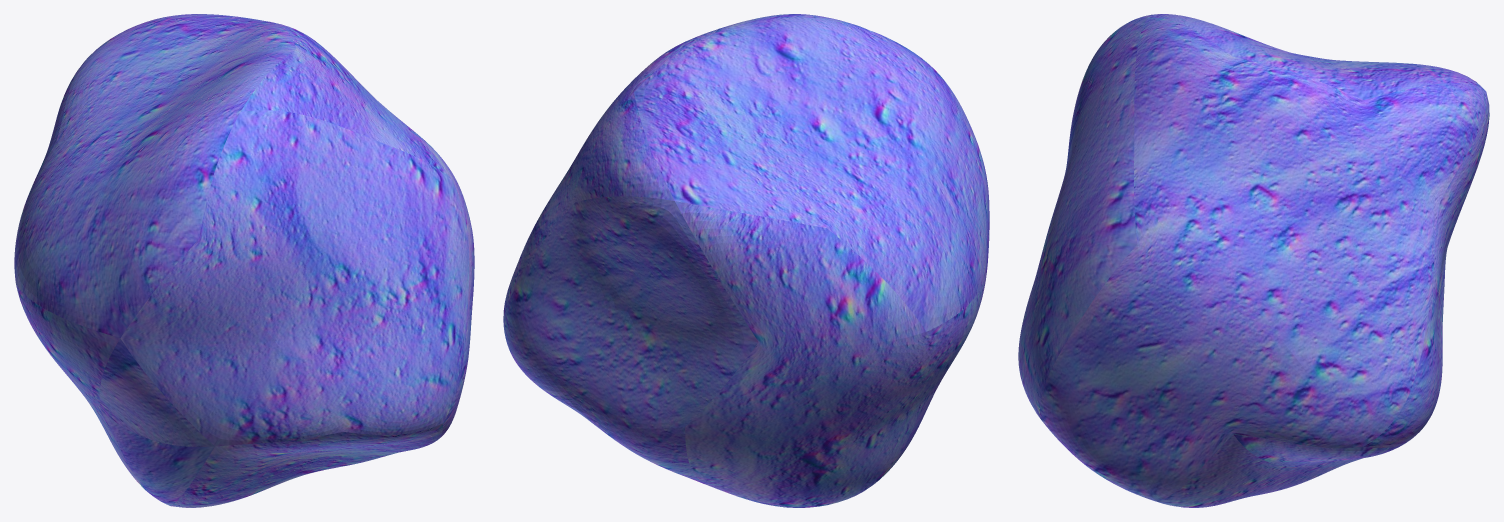
Rendered from mediumasteroid17_LOD0.fbx.
3 views of the same model, side by side, from view 1: azimuth 30°, elevation 25°; view 2: azimuth 150°, elevation 25°; view 3: azimuth 270°, elevation 25° (orthographic). The views are drawn at different scales.
Parts seen in each view (by area): view 1: Icosphere; view 2: Icosphere; view 3: Icosphere.
Part boxes in pixels (x1,y1,x2,y2): Icosphere: (14,14,474,507); Icosphere: (503,14,989,507); Icosphere: (1018,14,1489,507).
Size of the model in its own units: 257 by 275 by 252.
